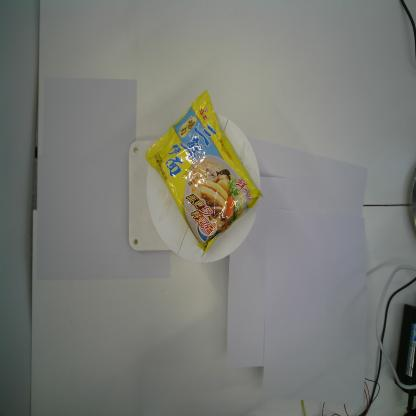Instant Noodles: (144, 89, 264, 258)
